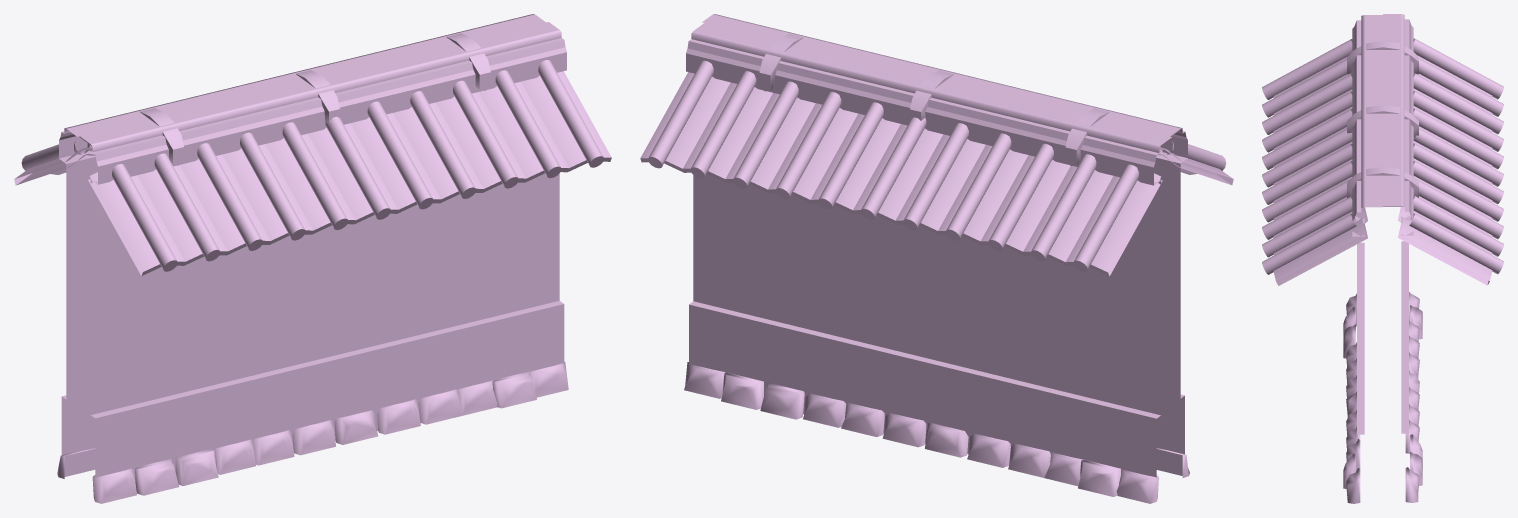
File: lp_temple_wall.fbx
3 renders of one model, left to right at view 1: azimuth 30°, elevation 25°; view 2: azimuth 150°, elevation 25°; view 3: azimuth 270°, elevation 25°, orthographic. The views are drawn at different scales.
Parts seen in each view (by area): view 1: polySurface32; view 2: polySurface32; view 3: polySurface32.
Part boxes in pixels (box(x1,y1,x2,y2)): polySurface32: box(14, 14, 611, 503); polySurface32: box(640, 14, 1233, 503); polySurface32: box(1262, 14, 1503, 503).
Bounding box in the file's own units: 39.17 × 28.02 × 20.58.
